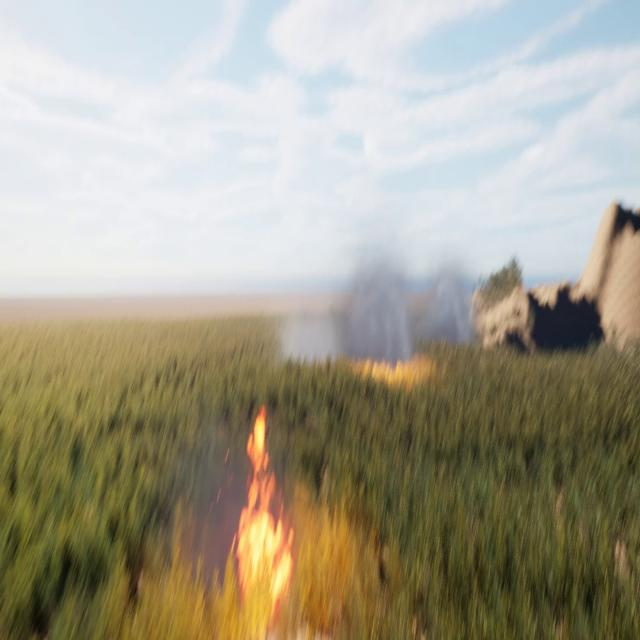fire: (233, 407, 300, 608), (352, 352, 432, 383)
smoke: (280, 225, 472, 364), (174, 398, 279, 586)
